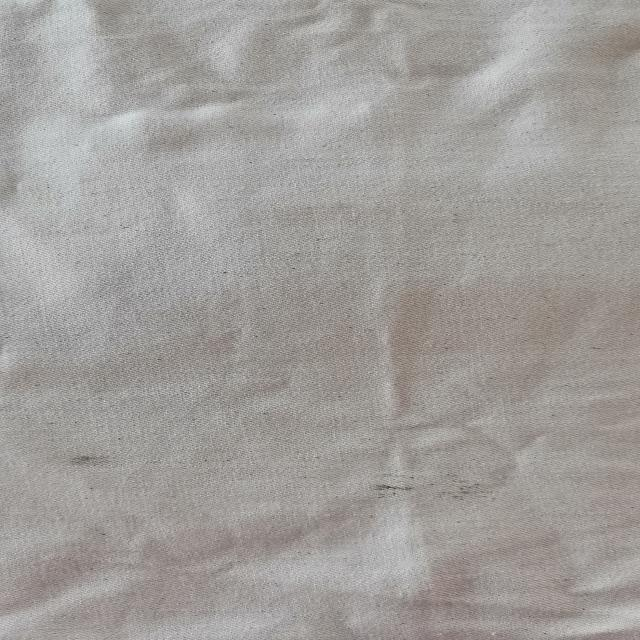taaaches: (349, 456, 513, 501), (44, 434, 147, 478)
